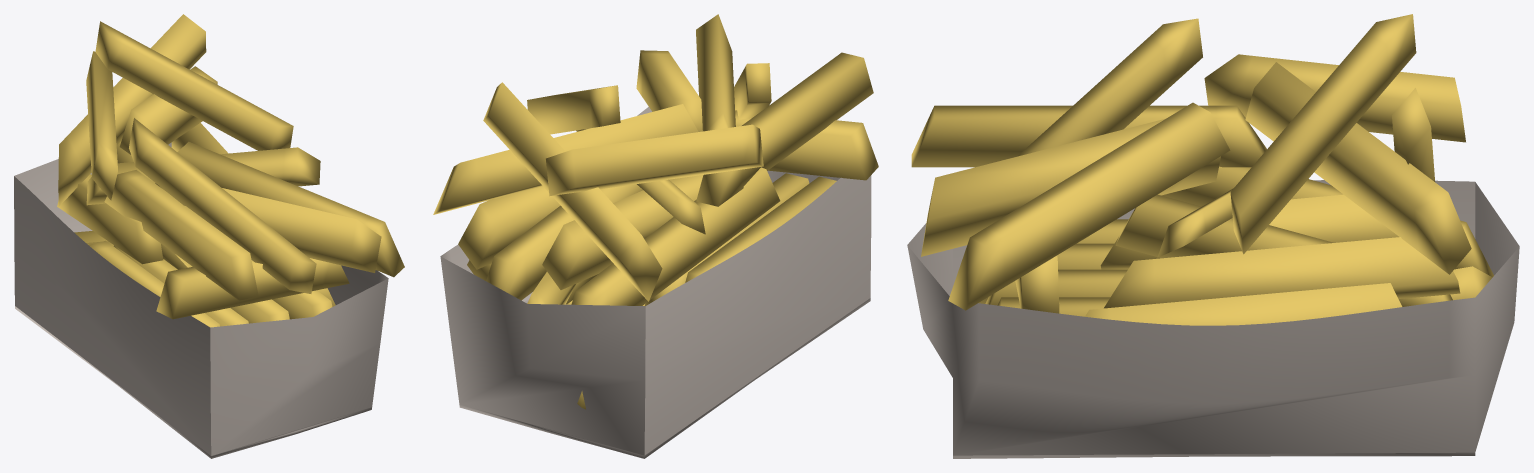
File: LBSR_Frenchfries_straight.fbx
The picture shows the model from 3 angles, left to right: view 1: azimuth 30°, elevation 25°; view 2: azimuth 150°, elevation 25°; view 3: azimuth 270°, elevation 25°; orthographic projection. The views are drawn at different scales.
Parts seen in each view (by area): view 1: box, fry.019, fry.020, fry.017, fry.018, fry.009, fry.022, fry.008, fry.023, fry.006, fry.012, fry.016 (+5 smaller); view 2: box, fry.023, fry.022, fry.017, fry.006, fry.016, fry.015, fry.011, fry.008, fry.007, fry.018, fry.020 (+6 smaller); view 3: box, fry.009, fry.011, fry.020, fry.016, fry.018, fry.017, fry.019, fry.023, fry.010, fry.007, fry.015 (+9 smaller).
Part boxes in pixels (<box>): box: <box>14,142,388,458</box>; fry.019: <box>129,118,316,293</box>; fry.020: <box>95,21,293,150</box>; fry.017: <box>104,170,258,300</box>; fry.018: <box>155,183,381,272</box>; fry.009: <box>177,141,404,277</box>; fry.022: <box>58,14,206,206</box>; fry.008: <box>156,258,349,319</box>; fry.023: <box>86,51,117,200</box>; fry.006: <box>57,174,163,264</box>; fry.012: <box>86,147,320,205</box>; fry.016: <box>119,66,217,154</box>; box: <box>440,107,871,458</box>; fry.023: <box>546,124,763,196</box>; fry.022: <box>483,82,662,301</box>; fry.017: <box>696,52,873,206</box>; fry.006: <box>571,167,780,305</box>; fry.016: <box>433,104,698,214</box>; fry.015: <box>542,175,703,289</box>; fry.011: <box>458,186,560,269</box>; fry.008: <box>735,110,878,180</box>; fry.007: <box>486,184,642,300</box>; fry.018: <box>696,14,735,131</box>; fry.020: <box>527,85,620,134</box>; box: <box>907,180,1519,458</box>; fry.009: <box>948,102,1230,310</box>; fry.011: <box>1104,237,1460,308</box>; fry.020: <box>1230,14,1416,254</box>; fry.016: <box>1245,62,1471,274</box>; fry.018: <box>921,118,1220,256</box>; fry.017: <box>911,105,1266,167</box>; fry.019: <box>1017,18,1202,156</box>; fry.023: <box>1204,54,1465,142</box>; fry.010: <box>1085,283,1402,325</box>; fry.007: <box>1115,194,1452,306</box>; fry.015: <box>1100,194,1398,269</box>.
Size of the model in its own units: 0.3393 by 0.4283 by 0.6033.
